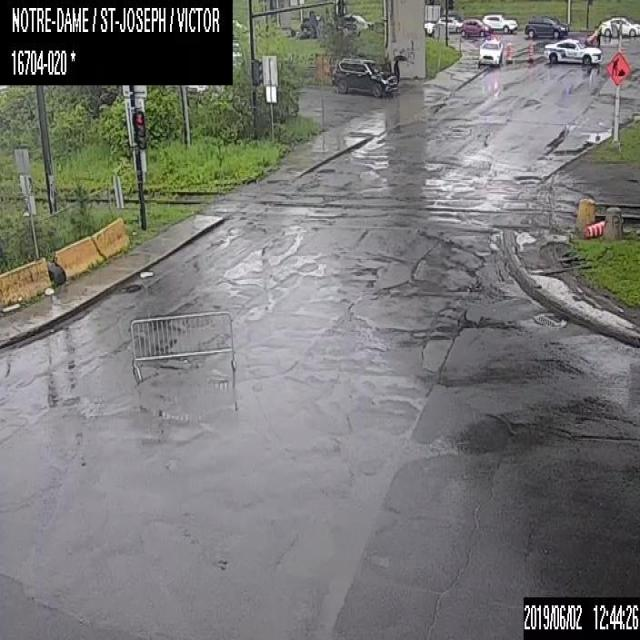construction: (130, 310, 237, 384), (606, 50, 631, 84), (583, 220, 604, 238), (527, 41, 533, 61), (506, 42, 512, 62)
pedestrian: (392, 54, 407, 82), (584, 26, 601, 46)
vehicle: (332, 57, 397, 97), (543, 37, 603, 64), (524, 15, 567, 37), (599, 15, 639, 36), (478, 36, 502, 66), (482, 13, 517, 33), (460, 18, 490, 35), (436, 16, 462, 32), (343, 13, 370, 28)
